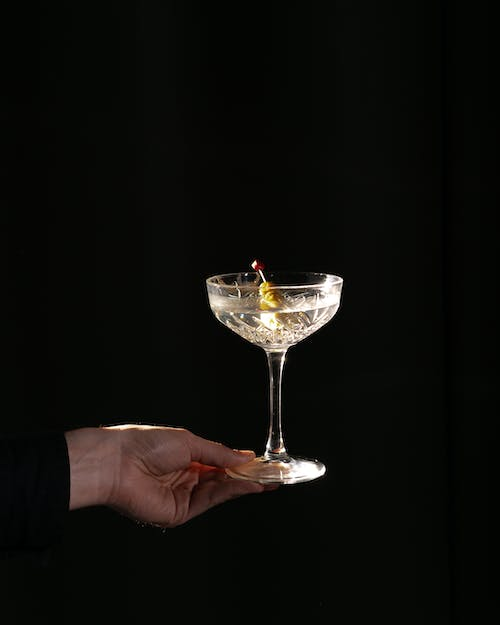alcohol: (203, 268, 346, 487)
